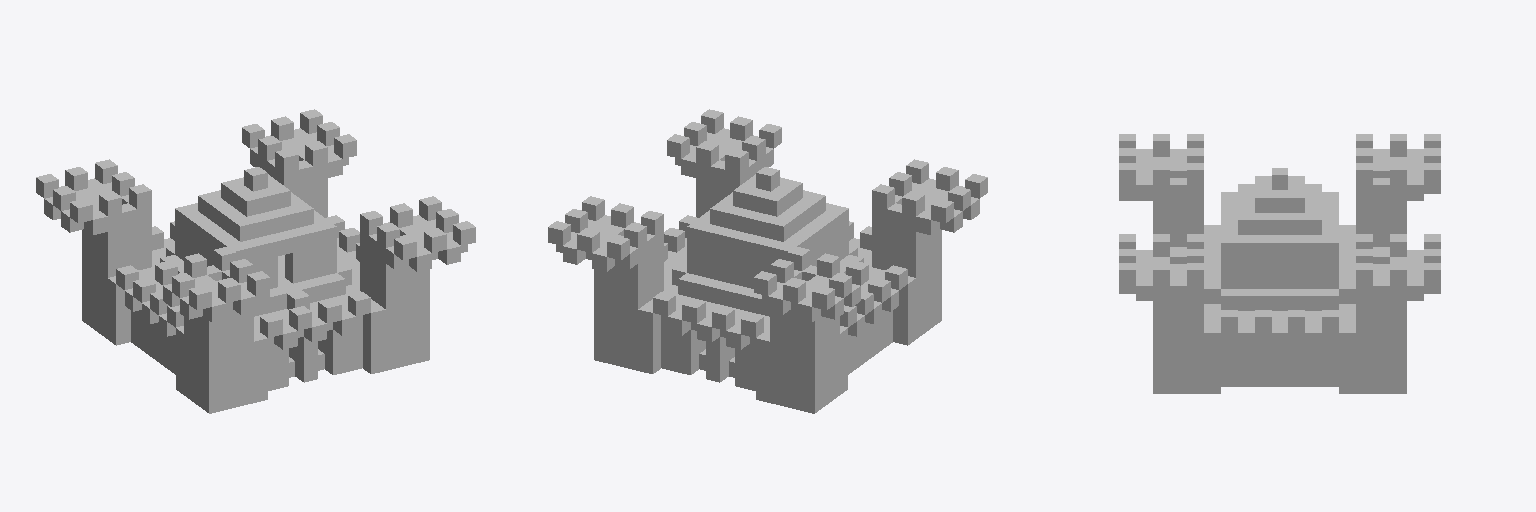
The model's file is mesh_fort_ang_w.obj.
The picture shows the model from 3 angles: view 1: azimuth 30°, elevation 25°; view 2: azimuth 150°, elevation 25°; view 3: azimuth 270°, elevation 25°; orthographic projection.
Bounding box in the file's own units: 0.5938 × 0.3438 × 0.5938.